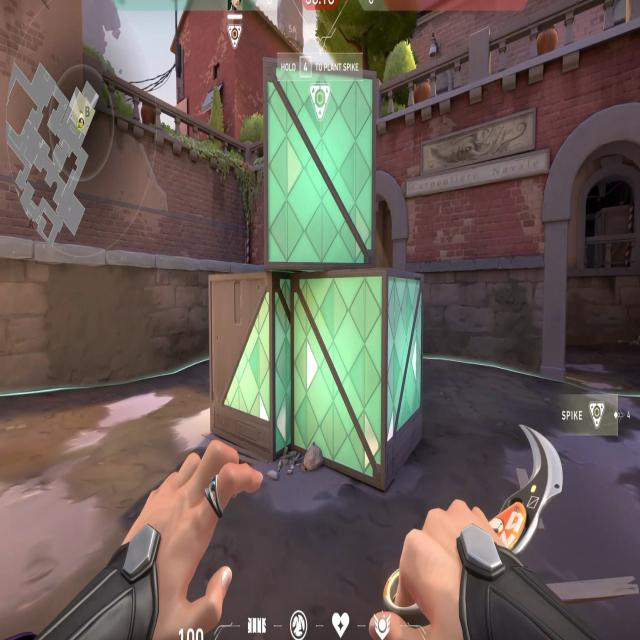B_Boathouse: (535, 94, 640, 403)
B_Site_Box: (220, 58, 425, 492)
